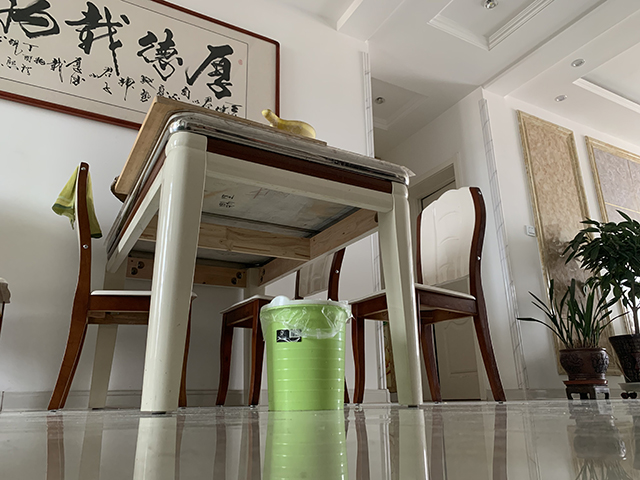stool: (45, 161, 199, 412), (347, 185, 510, 408), (215, 247, 352, 409)
table: (87, 108, 424, 415)
trashcan: (259, 295, 351, 412)
